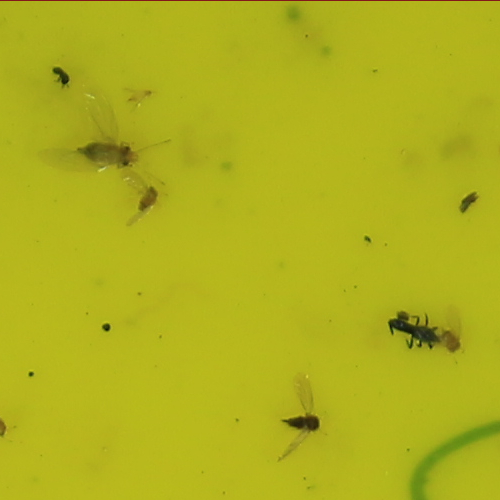psylla: (75, 139, 142, 166), (135, 183, 164, 210), (283, 413, 322, 433)
